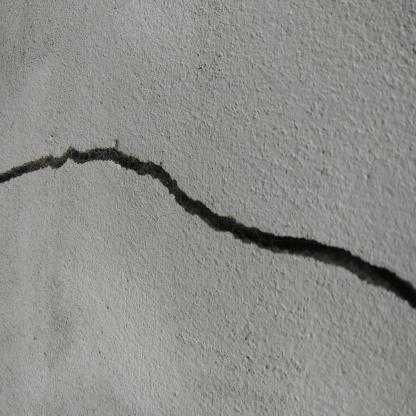crack: (0, 146, 415, 311)
